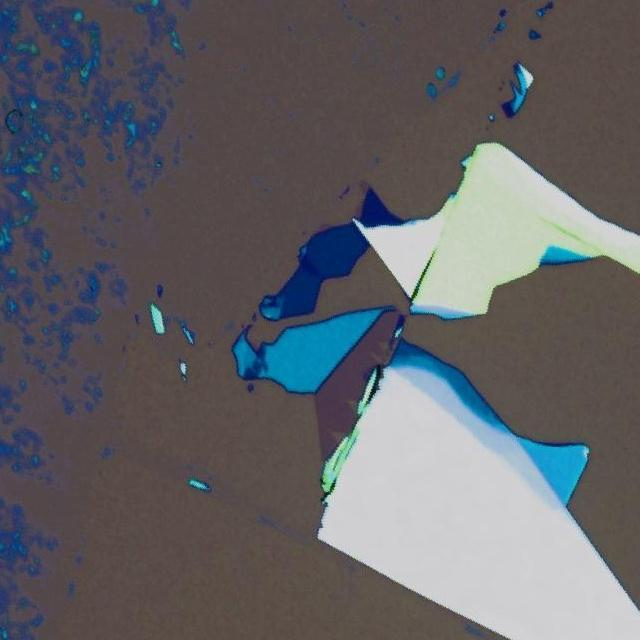monolayer-eWW4: (307, 306, 399, 475)
